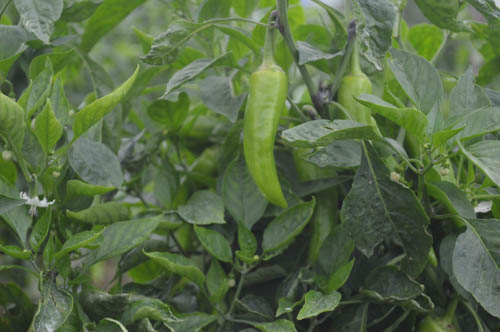ChiliPepper: (239, 72, 291, 211), (292, 138, 339, 265), (339, 79, 375, 138)
